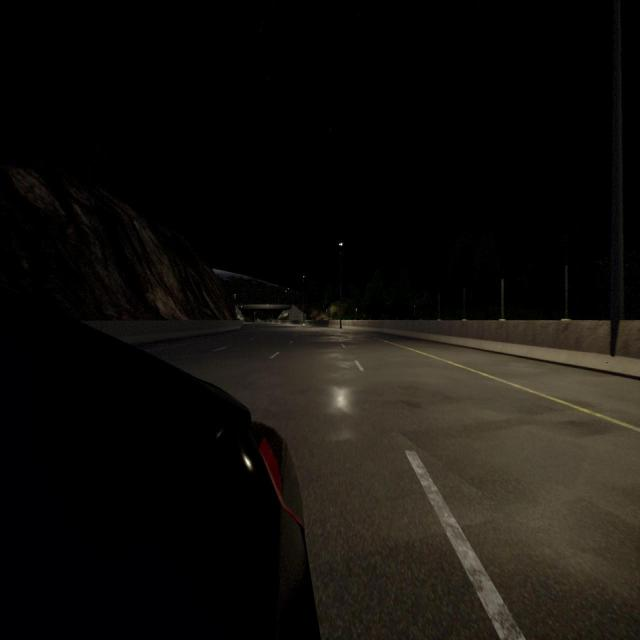Vehicle: (0, 276, 318, 640)
